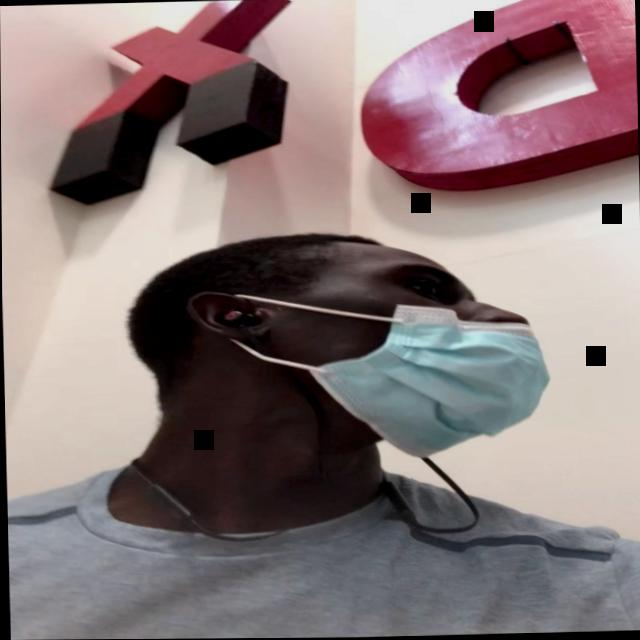Mask: (236, 241, 554, 462)
